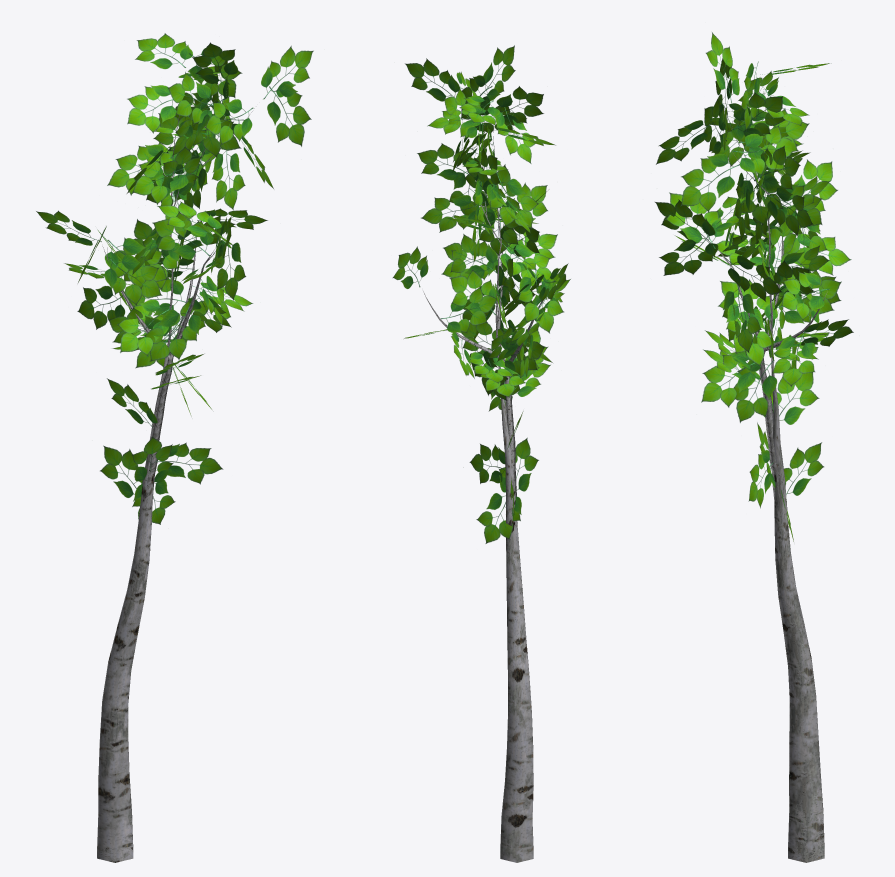
The model's file is tree_aspen.glb.
3 views of the same model, side by side, from view 1: azimuth 30°, elevation 25°; view 2: azimuth 150°, elevation 25°; view 3: azimuth 270°, elevation 25° (orthographic). The views are drawn at different scales.
Bounding box in the file's own units: 0.5427 × 1.69 × 0.4606.
Materials: 2 (2 with a texture image).
